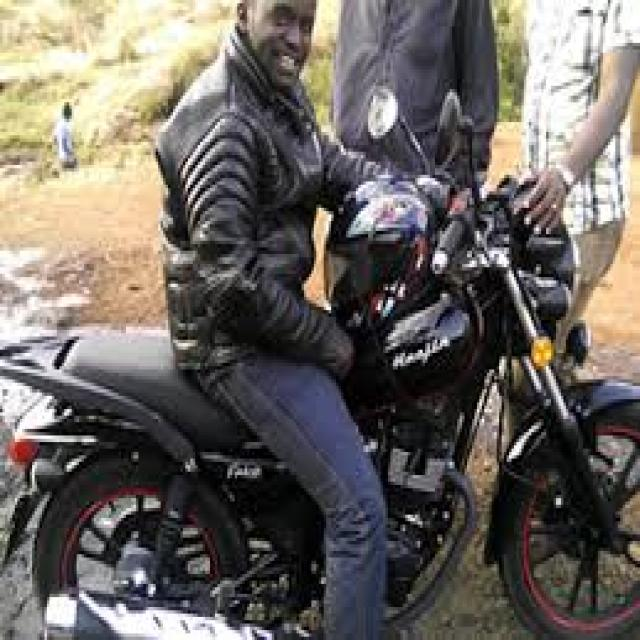bodaboda: (4, 40, 640, 640)
